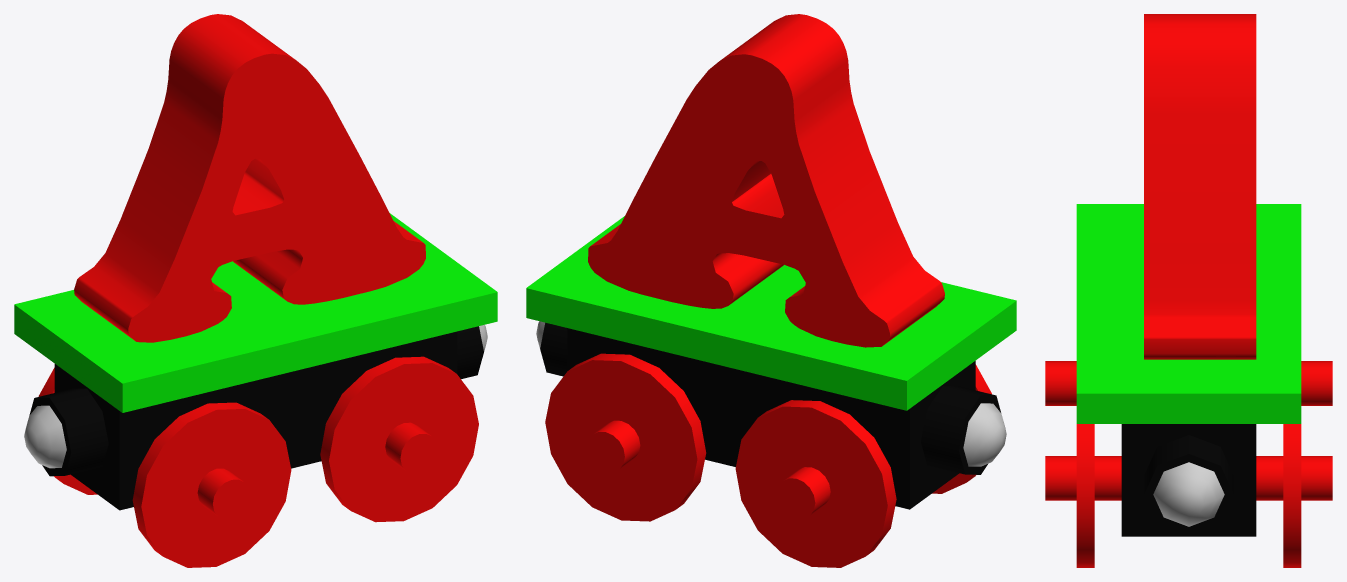
Rendered from letter-A.gltf.
The picture shows the model from 3 angles, left to right: view 1: azimuth 30°, elevation 25°; view 2: azimuth 150°, elevation 25°; view 3: azimuth 270°, elevation 25°; orthographic projection. The views are drawn at different scales.
Visible parts, largest first — view 1: WagonWithLetterLowPoly; view 2: WagonWithLetterLowPoly; view 3: WagonWithLetterLowPoly.
Boxes of the visible parts, box(x1,y1,x2,y2) form: WagonWithLetterLowPoly: box(14, 14, 497, 567); WagonWithLetterLowPoly: box(526, 14, 1016, 567); WagonWithLetterLowPoly: box(1045, 14, 1332, 567).
Size of the model in its own units: 6.06 by 5.97 by 3.2.
Materials: 1 (1 with a texture image).
